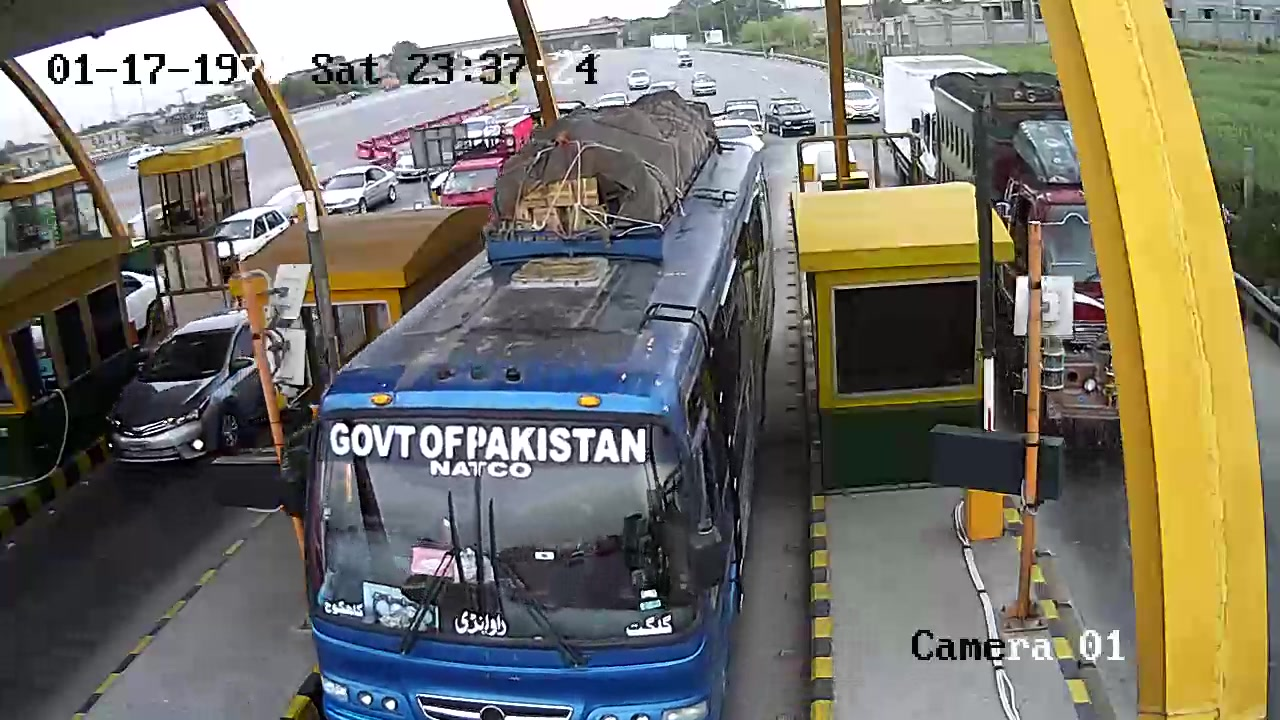F4: (304, 94, 773, 718)
